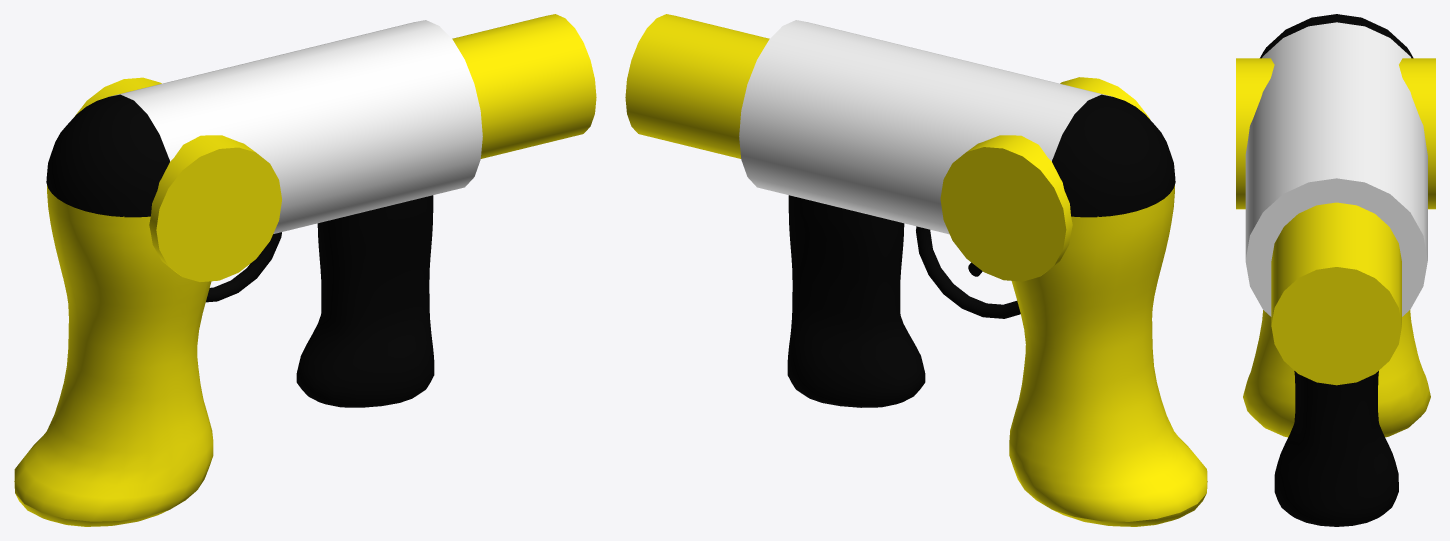
File: Gun.fbx
3 renders of one model, left to right at view 1: azimuth 30°, elevation 25°; view 2: azimuth 150°, elevation 25°; view 3: azimuth 270°, elevation 25°, orthographic. The views are drawn at different scales.
Parts seen in each view (by area): view 1: pTorus12; view 2: pTorus12; view 3: pTorus12.
Part boxes in pixels (left/top/right/bottom): pTorus12: left=14, top=14, right=596, bottom=526; pTorus12: left=625, top=14, right=1207, bottom=526; pTorus12: left=1236, top=14, right=1435, bottom=526.
Size of the model in its own units: 8.34 by 5.89 by 2.55.
